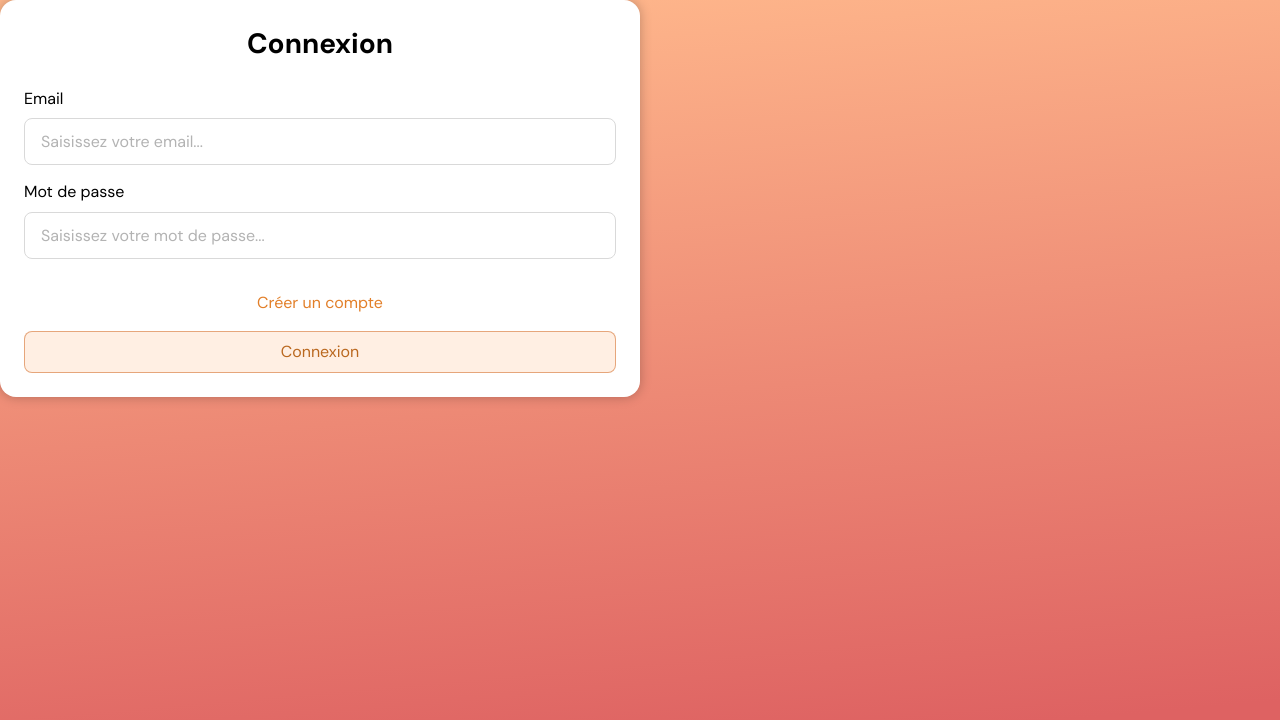
Login › 401 → « Email ou mot de passe incorrect », pas de session
Type "lea@example.com" into the field with placeholder "Saisissez votre email..." at (320, 142), box [24,118,616,165]
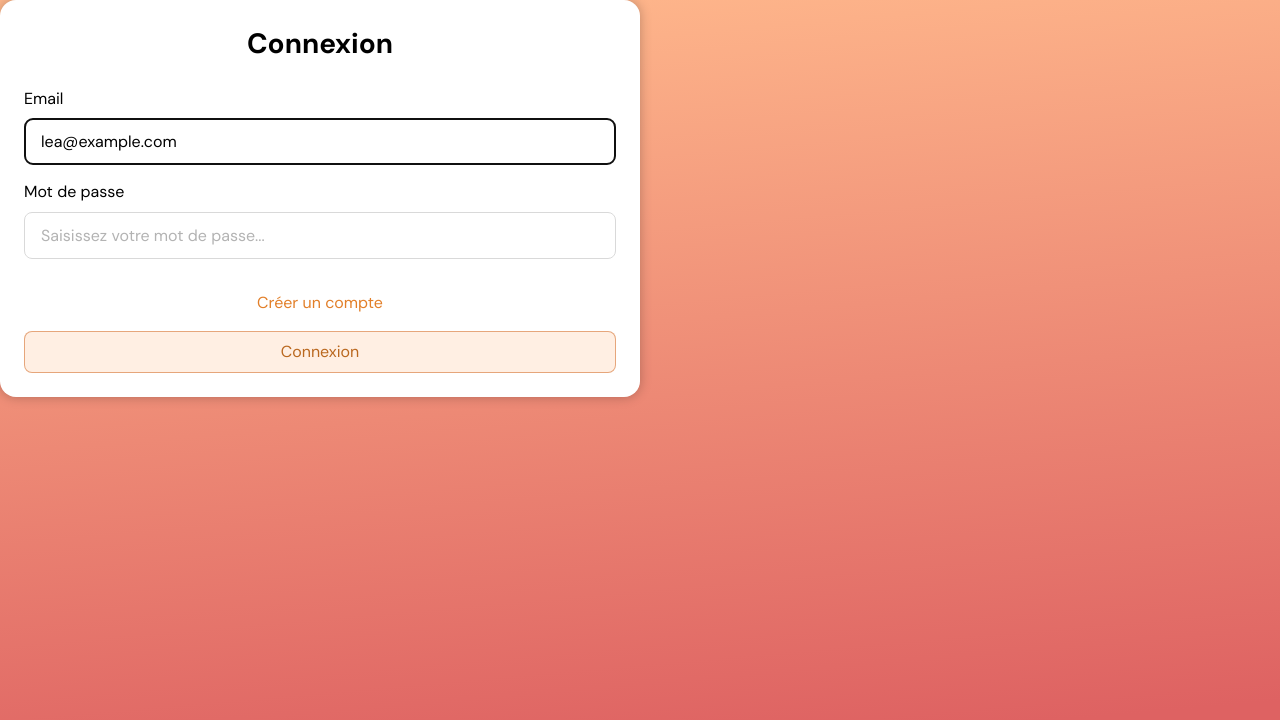
Type "mauvais" into the password field with placeholder "Saisissez votre mot de passe..." at (320, 235), box [24,212,616,259]
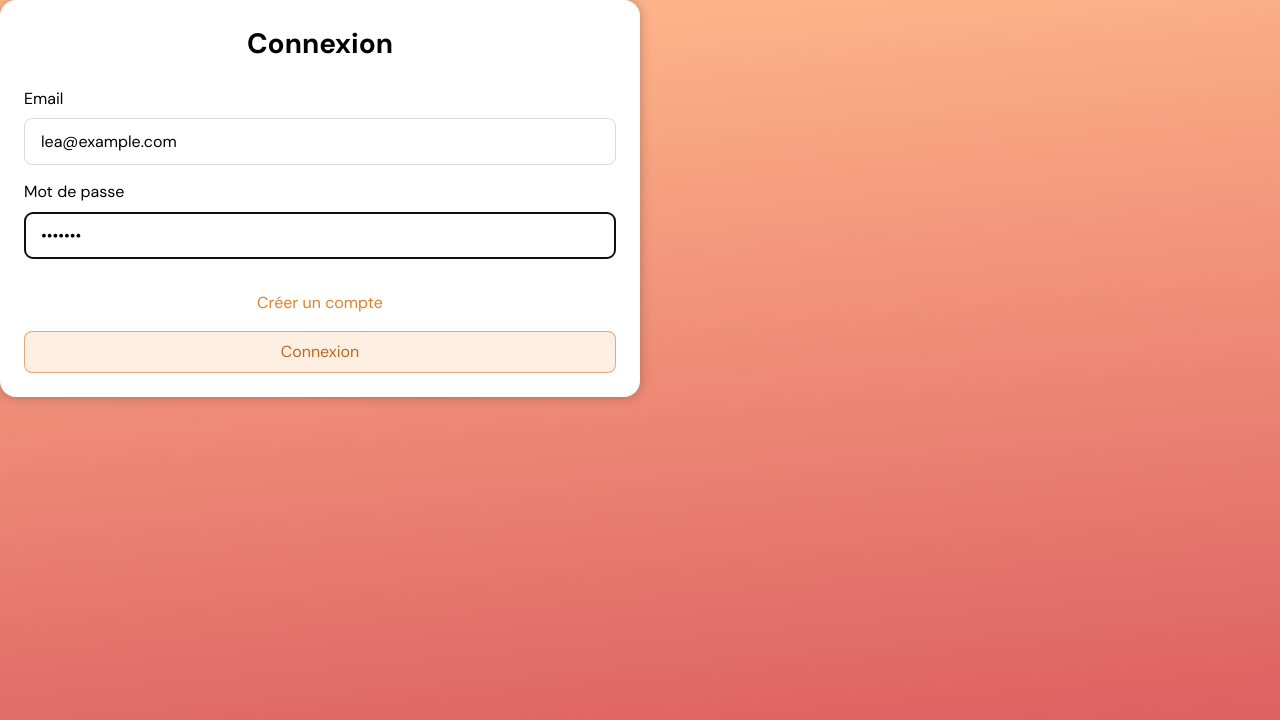
Click the button "Connexion" at (320, 352), box [24,331,616,373]
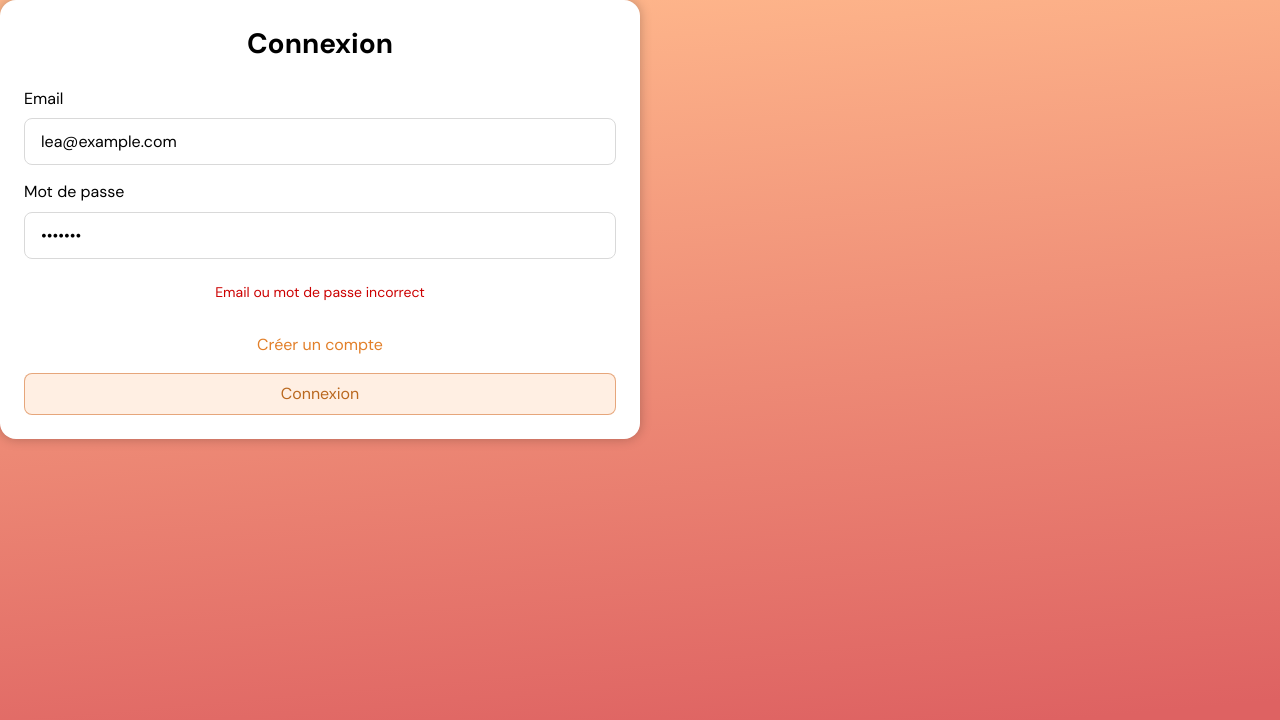
Check: the text "Email ou mot de passe incorrect" is shown, box [215,283,425,301]
